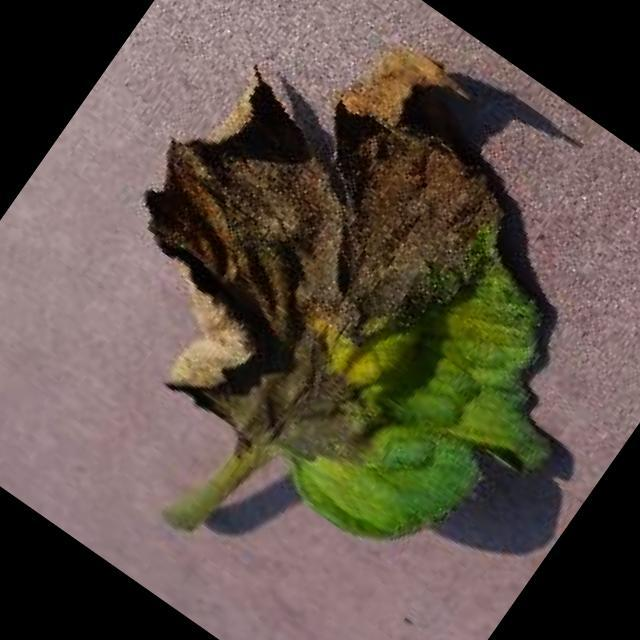Tomato late blight leaf: (37, 0, 640, 615)
